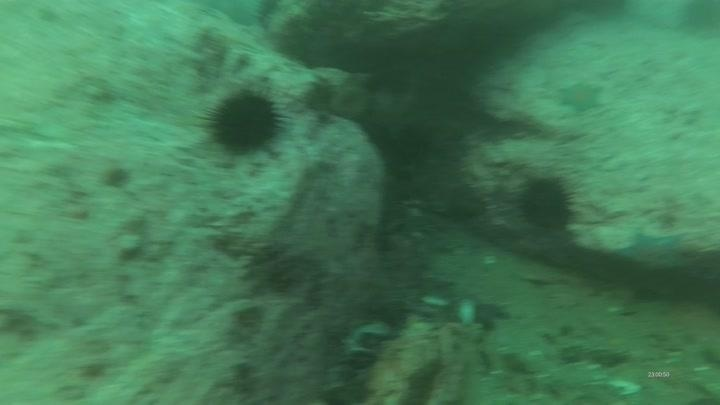echinus: (200, 85, 288, 159), (514, 171, 580, 236)
starfish: (612, 226, 690, 274), (555, 78, 606, 116)
